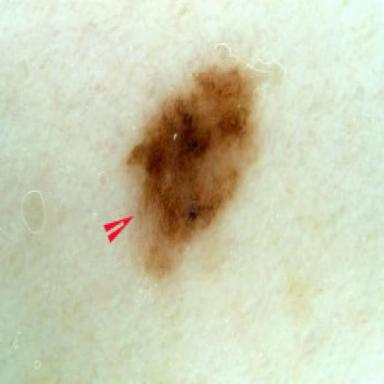Melanoma: (127, 45, 283, 275)
